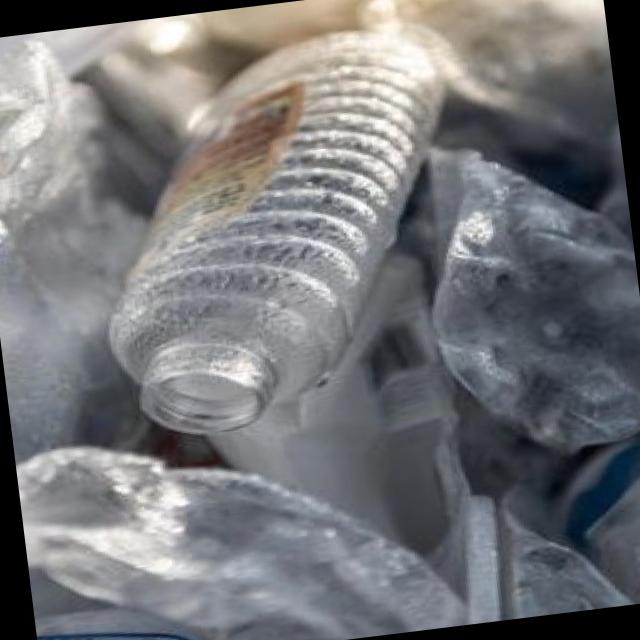general: (79, 4, 488, 458)
